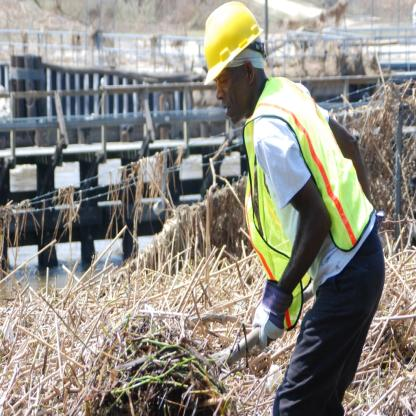Helmet: (204, 0, 267, 83)
